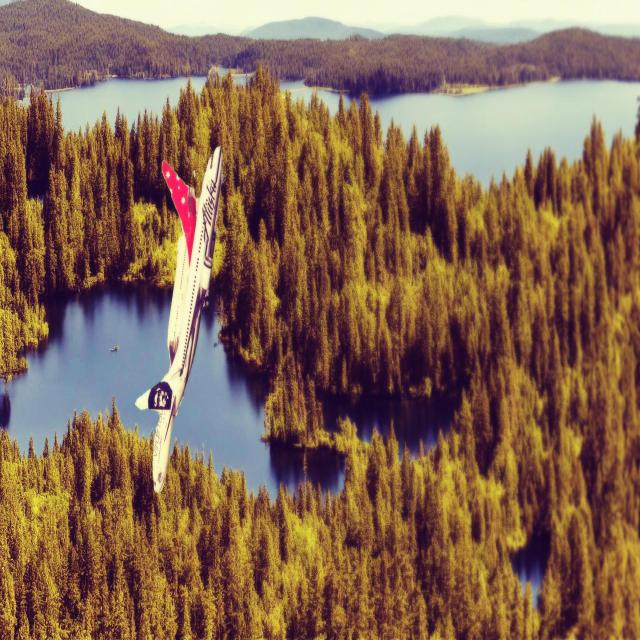airplane: (134, 144, 224, 494)
